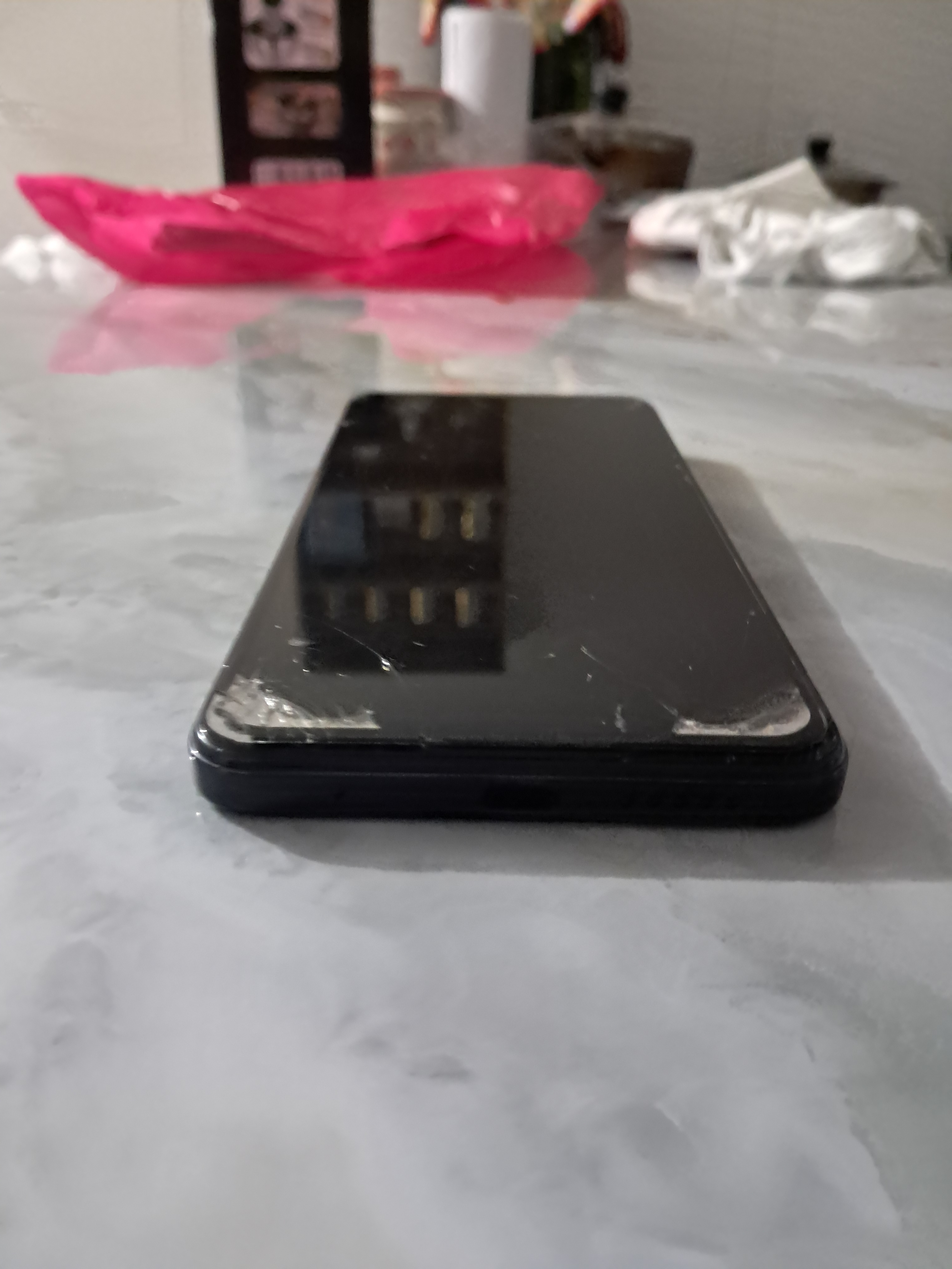phone: (190, 393, 848, 827)
